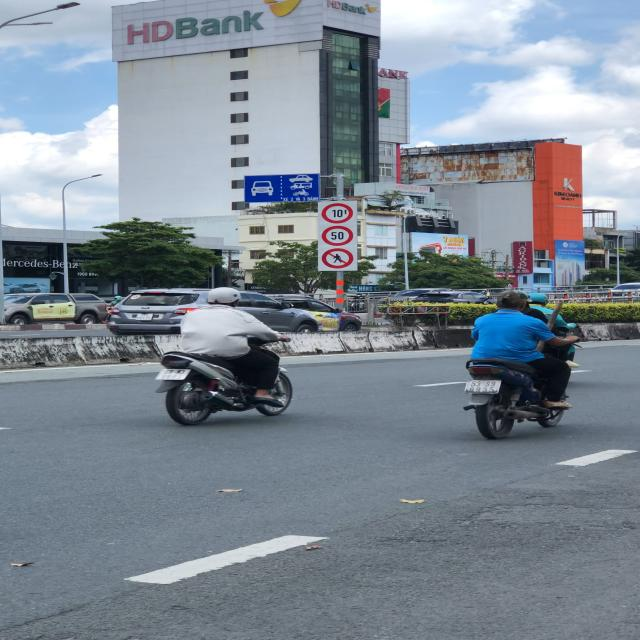Bien bao cam nguoi di bo: (320, 247, 356, 270)
Bien bao toc do toi da cho phep: (321, 224, 356, 246)
